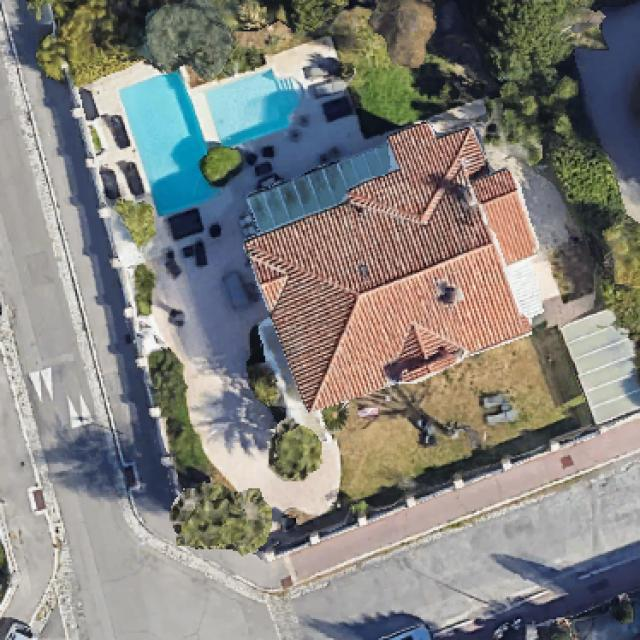maison: (228, 100, 566, 414)
